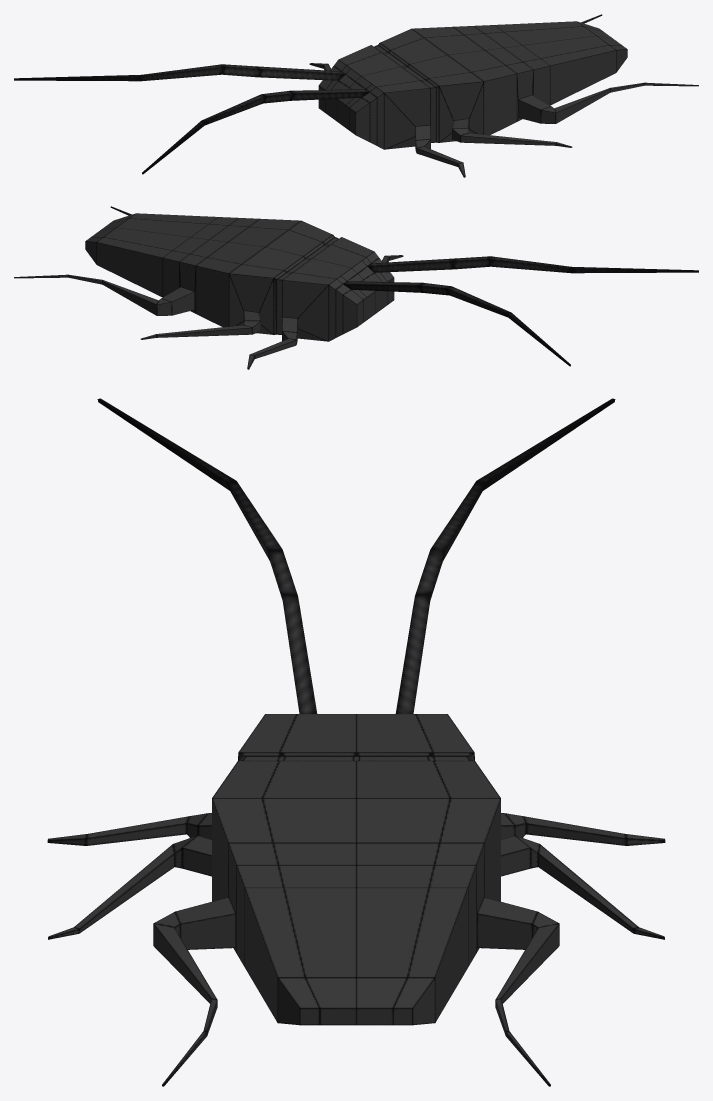
Rendered from roach.fbx.
3 renders of one model, top to bottom at view 1: azimuth 30°, elevation 25°; view 2: azimuth 150°, elevation 25°; view 3: azimuth 270°, elevation 25°, orthographic. The views are drawn at different scales.
Visible parts, largest first — view 1: Cube; view 2: Cube; view 3: Cube.
Part boxes in pixels (box(x1,y1,x2,y2)): Cube: box(14, 14, 698, 177); Cube: box(14, 206, 698, 369); Cube: box(47, 398, 665, 1086).
Size of the model in its own units: 2109 by 286 by 985.
